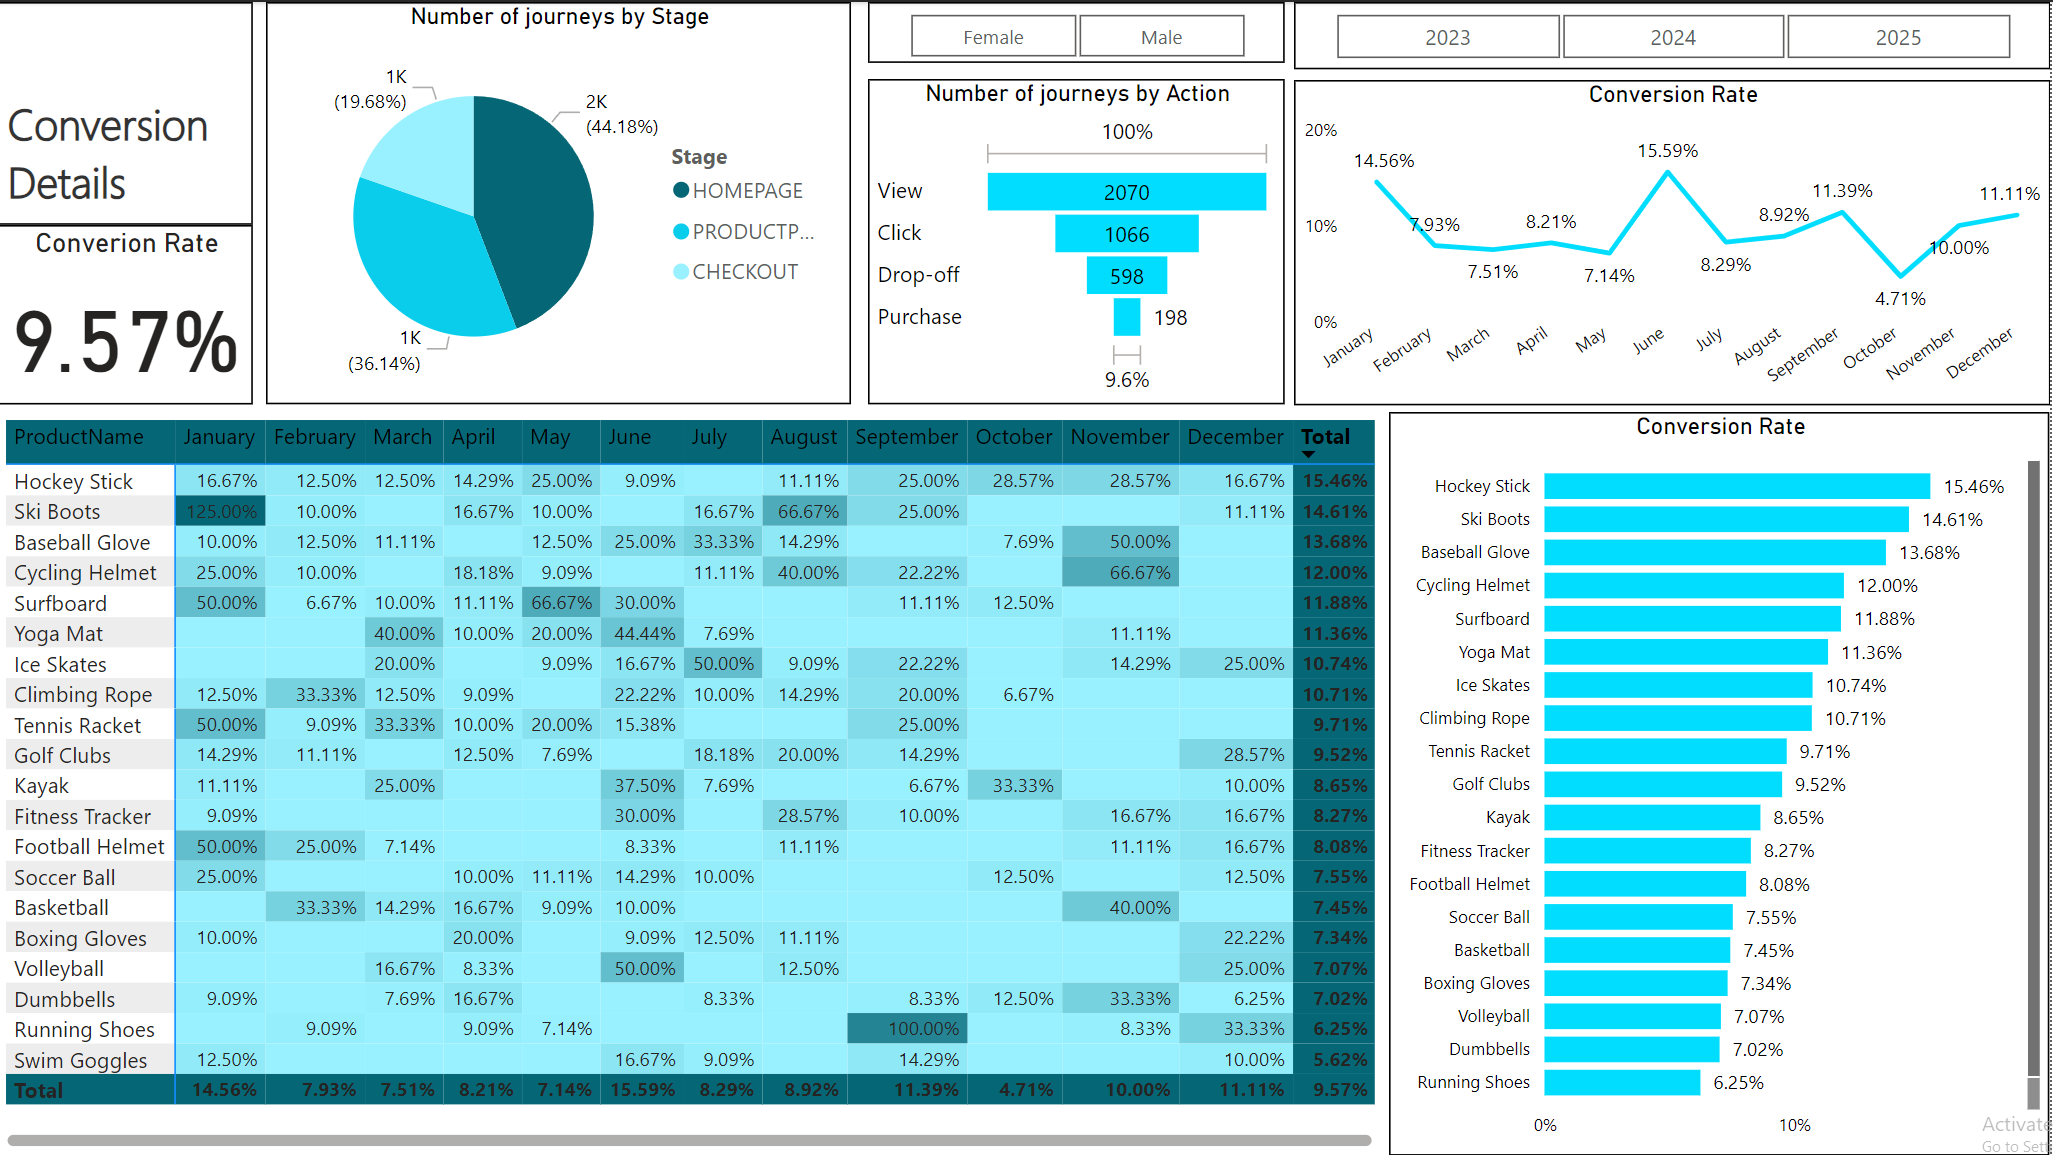

The page's visual inventory and layout, read from the dashboard file:
{"tool":"powerbi","page":{"name":"Conversion Details","canvas":[1280,720],"ordinal":1},"visuals":[{"type":"card","title":"Converion Rate","fields":{"Values":["_measures.Conversion Rate"]},"box":[0,139.1,159.1,112.3],"z":0},{"type":"lineChart","title":"Conversion Rate ","fields":{"Y":["_measures.Conversion Rate"],"Category":["Calendar.Date.Variation.Date Hierarchy.Month"]},"box":[808.6,48.7,471.7,202.8],"z":1000},{"type":"clusteredBarChart","title":"Conversion Rate ","fields":{"Category":["Dim_Product.ProductName"],"Y":["_measures.Conversion Rate"]},"box":[867.9,255.8,412.4,464.2],"z":2000},{"type":"slicer","fields":{"Values":["Dim_Customers.Gender"]},"box":[542.8,0,259.5,38.1],"z":3000},{"type":"slicer","fields":{"Values":["Calendar.Date.Variation.Date Hierarchy.Year"]},"box":[808.6,0,471.7,42.4],"z":4000},{"type":"pivotTable","fields":{"Rows":["Dim_Product.ProductName"],"Columns":["Calendar.Date.Variation.Date Hierarchy.Month"],"Values":["_measures.Conversion Rate"]},"box":[0,255.8,863.5,464.2],"z":5000},{"type":"textbox","box":[0,0,159.1,139.1],"z":6000},{"type":"funnel","fields":{"Category":["fact_customer_journey.Action"],"Y":["_measures.Number of journeys"]},"box":[542.8,48,259.5,202.8],"z":7000},{"type":"pieChart","fields":{"Category":["fact_customer_journey.Stage"],"Y":["_measures.Number of journeys"]},"box":[167.2,0,365,251.4],"z":8000}]}

Visuals, with their boxes in screenshot pixels (x1, y1, x2, y2), scaled from the page's 1280x720 canvas onto the 2053x1155 screenshot:
"Converion Rate" card: l=0, t=223, r=255, b=403
"Conversion Rate " lineChart: l=1297, t=78, r=2052, b=403
"Conversion Rate " clusteredBarChart: l=1392, t=410, r=2052, b=1154
slicer - Dim_Customers.Gender: l=871, t=0, r=1287, b=61
slicer - Calendar.Date.Variation.Date Hierarchy.Year: l=1297, t=0, r=2052, b=68
pivotTable - Dim_Product.ProductName x Calendar.Date.Variation.Date Hierarchy.Month: l=0, t=410, r=1385, b=1154
textbox: l=0, t=0, r=255, b=223
funnel - fact_customer_journey.Action x _measures.Number of journeys: l=871, t=77, r=1287, b=402
pieChart - fact_customer_journey.Stage x _measures.Number of journeys: l=268, t=0, r=854, b=403
